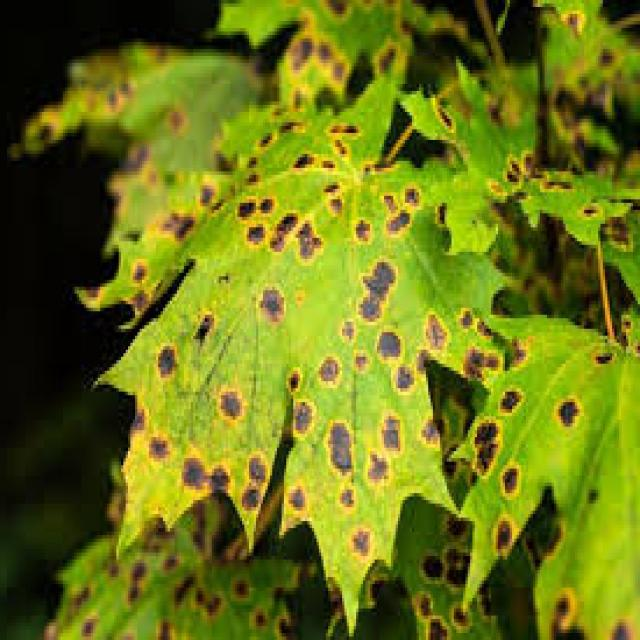black-spot: (268, 165, 418, 465), (428, 352, 562, 574), (117, 333, 203, 510)
